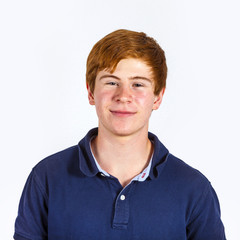teen: (92, 47, 157, 131)
